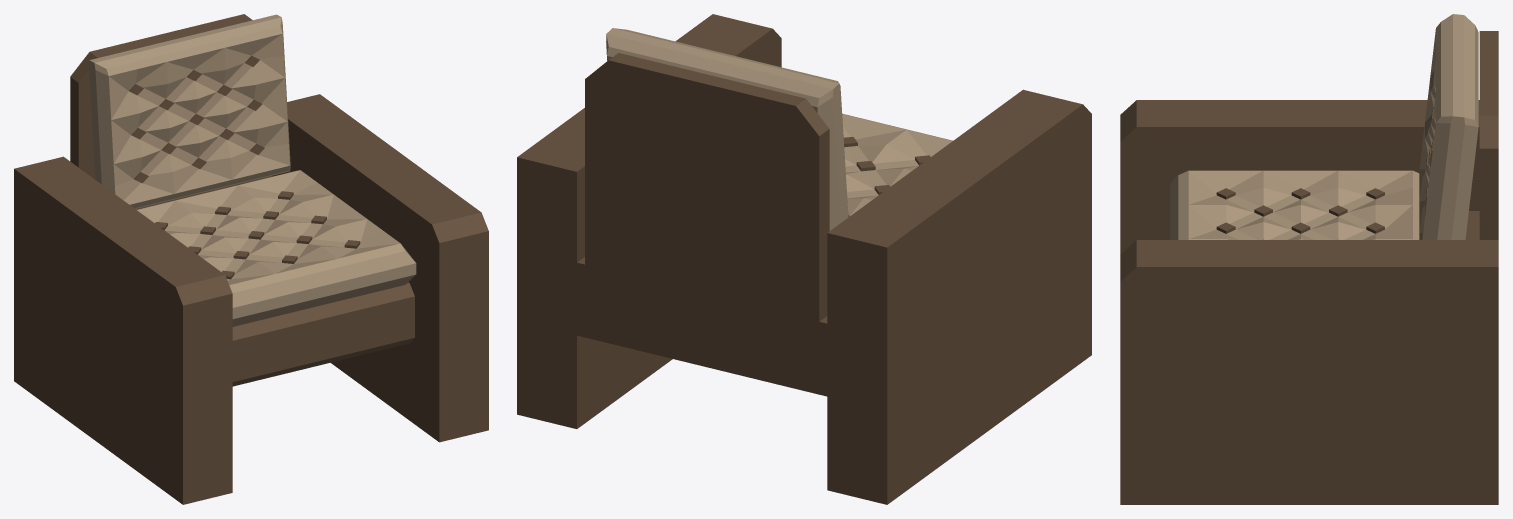
Rendered from Sillon.fbx.
3 views of the same model, side by side, from view 1: azimuth 30°, elevation 25°; view 2: azimuth 150°, elevation 25°; view 3: azimuth 270°, elevation 25° (orthographic). The views are drawn at different scales.
Visible parts, largest first — view 1: Base_Sillon, Almohada_2, Almohada_1; view 2: Base_Sillon, Almohada_2, Almohada_1; view 3: Base_Sillon, Almohada_1, Almohada_2.
Part boxes in pixels (x1=…): Base_Sillon: x1=14, y1=14, x2=488, y2=504; Almohada_2: x1=89, y1=14, x2=290, y2=208; Almohada_1: x1=136, y1=170, x2=416, y2=326; Base_Sillon: x1=517, y1=14, x2=1091, y2=504; Almohada_2: x1=606, y1=28, x2=848, y2=230; Almohada_1: x1=842, y1=113, x2=952, y2=217; Base_Sillon: x1=1120, y1=31, x2=1498, y2=504; Almohada_1: x1=1170, y1=170, x2=1419, y2=239; Almohada_2: x1=1419, y1=14, x2=1478, y2=239.
Size of the model in its own units: 2.34 by 2.33 by 2.24.
